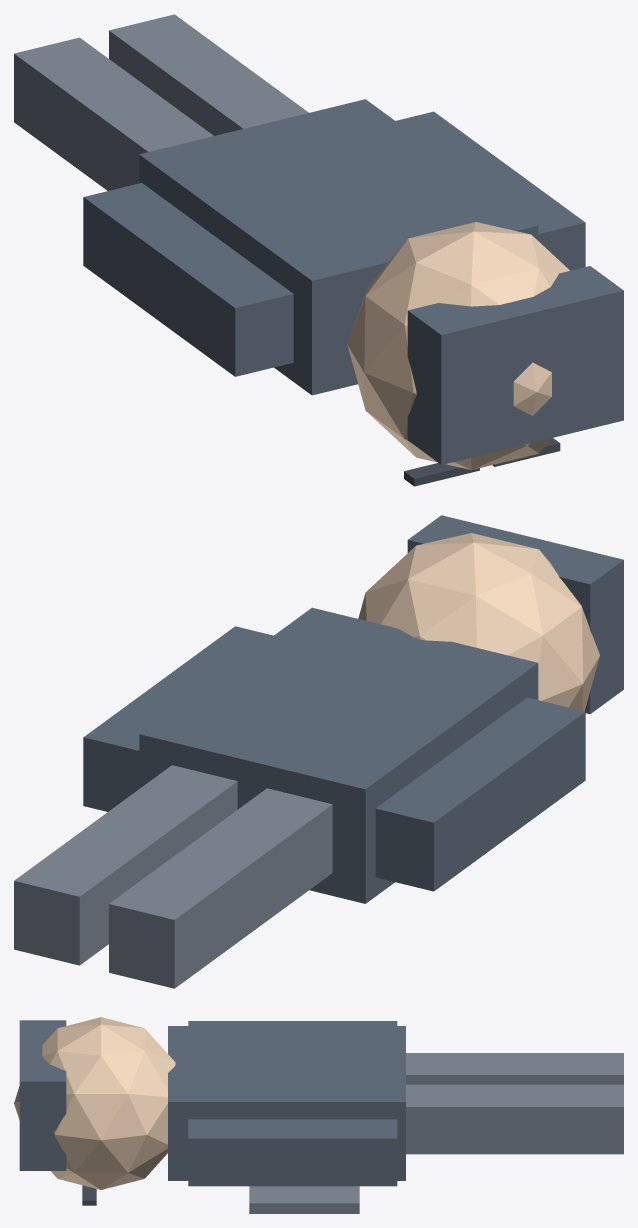
File: legal.glb
3 renders of one model, top to bottom at view 1: azimuth 30°, elevation 25°; view 2: azimuth 150°, elevation 25°; view 3: azimuth 270°, elevation 25°, orthographic. The views are drawn at different scales.
Visible parts, largest first — view 1: torso_2, hair_6, arm_l_3, head_5, leg_l_0, leg_r_1, arm_r_4, glasses_l_10; view 2: torso_2, leg_l_0, arm_l_3, head_5, leg_r_1, arm_r_4, hair_6; view 3: torso_2, head_5, leg_r_1, arm_r_4, leg_l_0, hair_6, tablet_9, arm_l_3.
Boxes of the visible parts, x1,y1,x2,y2 form: torso_2: (139, 99, 538, 395); hair_6: (407, 266, 623, 464); arm_l_3: (83, 183, 293, 376); head_5: (347, 222, 569, 469); leg_l_0: (14, 37, 213, 190); leg_r_1: (109, 14, 308, 135); arm_r_4: (396, 111, 585, 270); glasses_l_10: (404, 463, 479, 486); torso_2: (139, 607, 538, 903); leg_l_0: (109, 788, 332, 988); arm_l_3: (375, 697, 585, 891); head_5: (358, 533, 599, 711); leg_r_1: (14, 765, 237, 965); arm_r_4: (83, 626, 273, 811); hair_6: (407, 515, 623, 714); torso_2: (168, 1026, 405, 1180); head_5: (14, 1017, 175, 1189); leg_r_1: (406, 1084, 623, 1154); arm_r_4: (188, 1119, 397, 1186); leg_l_0: (406, 1053, 623, 1084); hair_6: (19, 1020, 66, 1170); tablet_9: (249, 1186, 359, 1213); arm_l_3: (188, 1021, 397, 1025).
Size of the model in its own units: 0.96 by 0.6 by 2.1.
